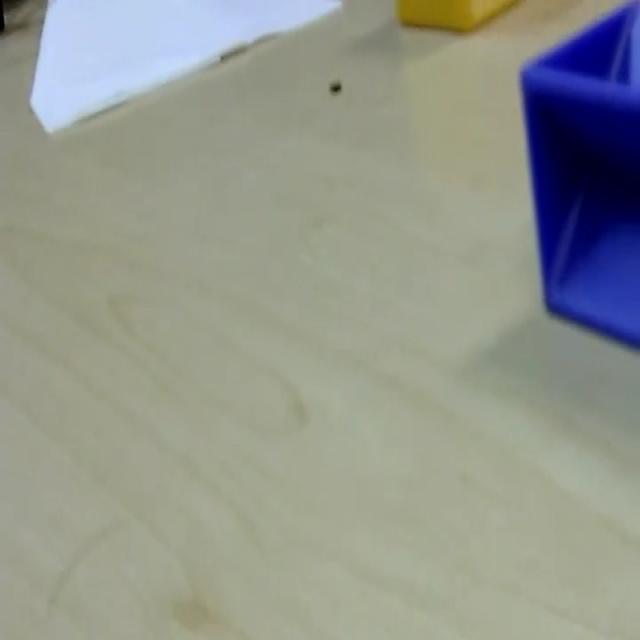blue_block: (517, 1, 638, 348)
yellow_block: (395, 0, 519, 32)
